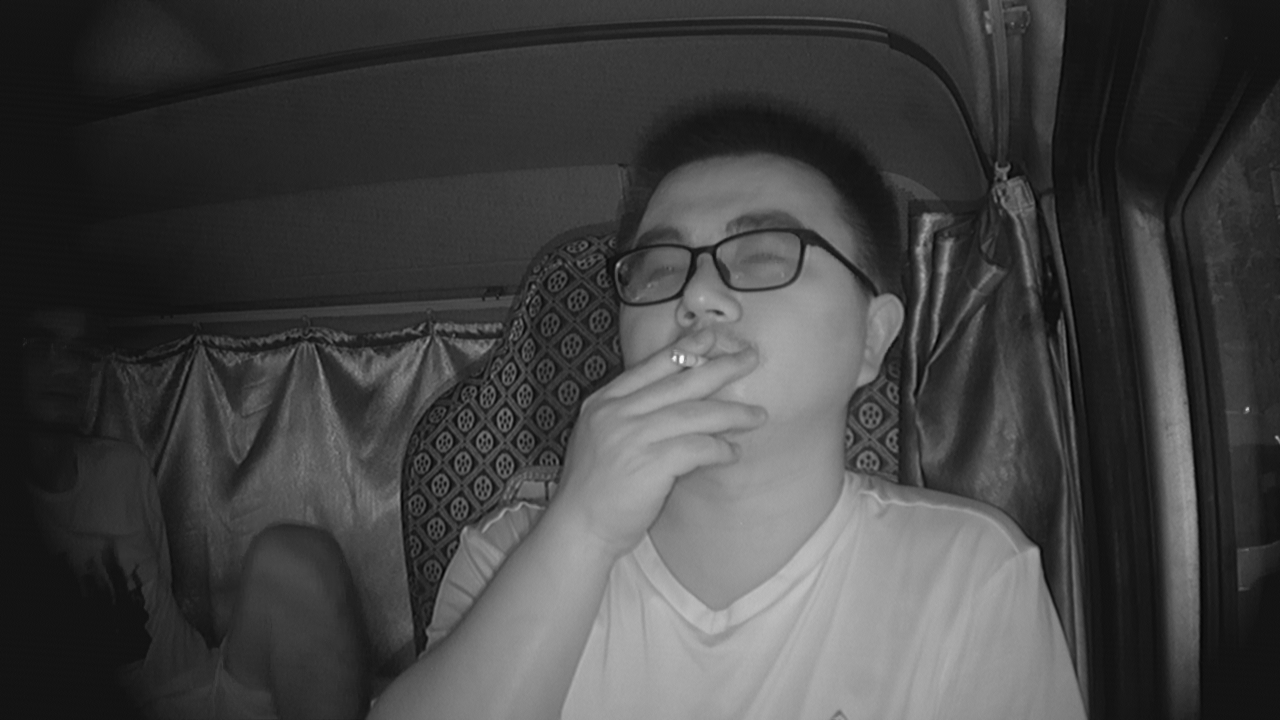hand: (597, 330, 754, 493)
